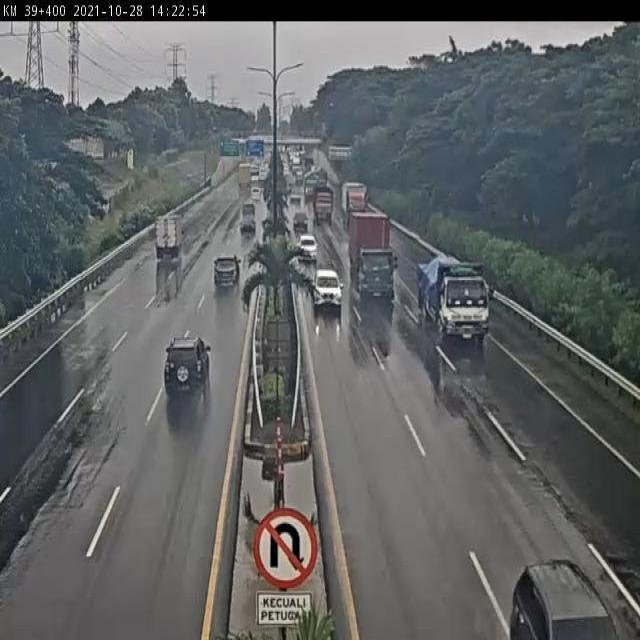truck-l-: (417, 252, 488, 344), (342, 184, 367, 224)
truck-m-: (155, 216, 183, 260)
truck-xl-: (350, 213, 398, 300)
